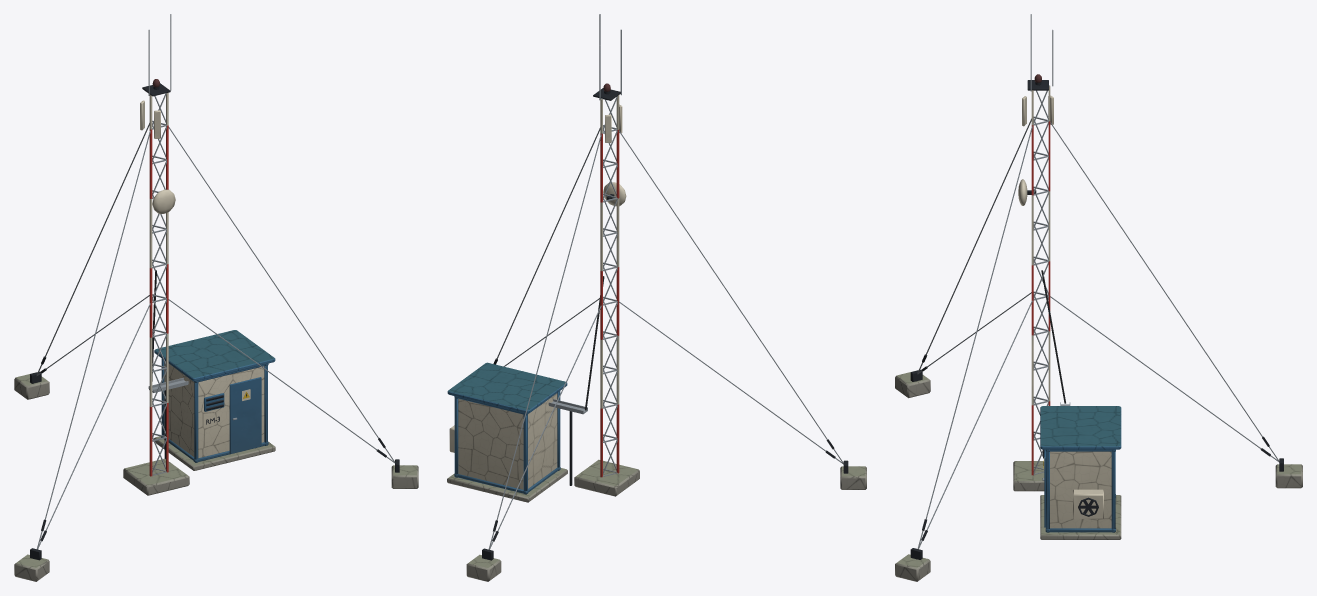
The model's file is radio_mast.glb.
3 views of the same model, side by side, from view 1: azimuth 30°, elevation 25°; view 2: azimuth 150°, elevation 25°; view 3: azimuth 270°, elevation 25° (orthographic).
Visible parts, largest first — view 1: radio_mast; view 2: radio_mast; view 3: radio_mast.
Boxes of the visible parts, x1,y1,x2,y2 form: radio_mast: [14, 14, 418, 581]; radio_mast: [447, 14, 866, 581]; radio_mast: [895, 14, 1302, 581].
Size of the model in its own units: 12.17 by 13.55 by 10.56.
Materials: 17 (17 with a texture image).
